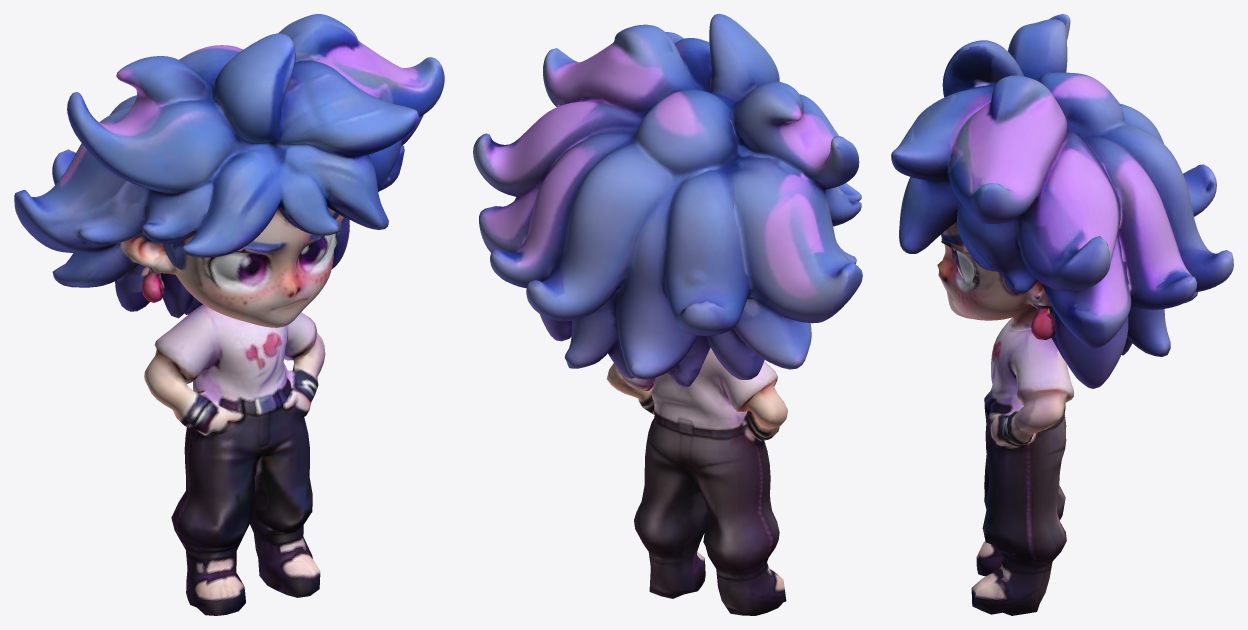
The model's file is character-v1.glb.
3 renders of one model, left to right at view 1: azimuth 30°, elevation 25°; view 2: azimuth 150°, elevation 25°; view 3: azimuth 270°, elevation 25°, orthographic. The views are drawn at different scales.
Parts seen in each view (by area): view 1: Character; view 2: Character; view 3: Character.
Part boxes in pixels (left/top/right/bottom): Character: left=14, top=14, right=444, bottom=615; Character: left=473, top=14, right=862, bottom=615; Character: left=891, top=14, right=1233, bottom=615.
Size of the model in its own units: 0.1447 by 0.2 by 0.1124.
Materials: 1 (1 with a texture image).
